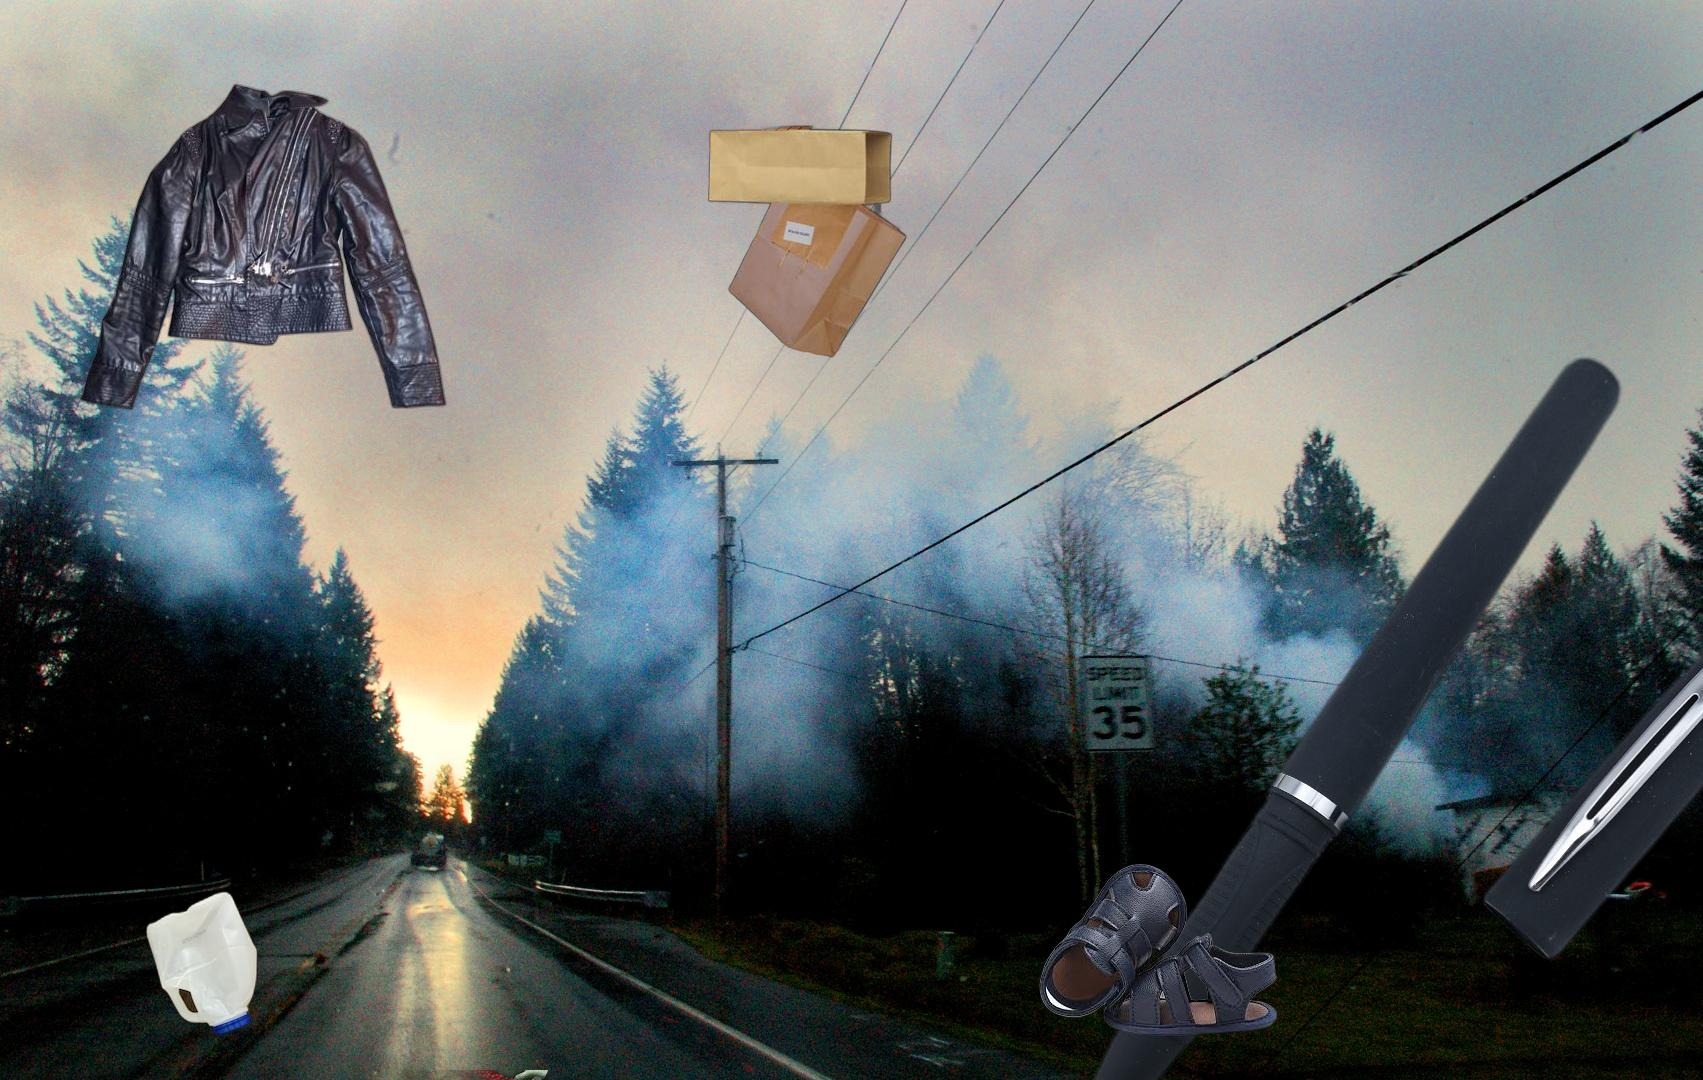biological: (364, 1070, 595, 1080)
clothes: (78, 79, 448, 413)
paper-bag: (659, 82, 909, 360)
penholder: (1058, 349, 1703, 1080)
plastic-bottles: (142, 885, 262, 1043)
shoes: (1036, 862, 1280, 1039)
